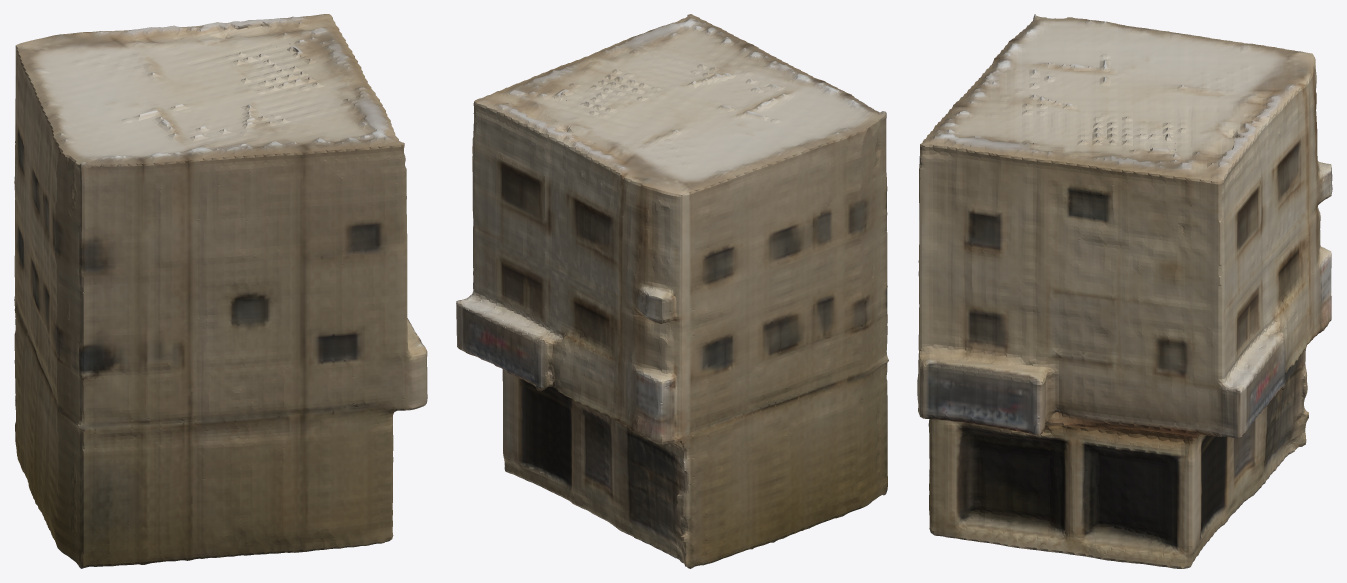
Rendered from tmpe9dycn5a.glb.
3 views of the same model, side by side, from view 1: azimuth 30°, elevation 25°; view 2: azimuth 150°, elevation 25°; view 3: azimuth 270°, elevation 25° (orthographic). The views are drawn at different scales.
Visible parts, largest first — view 1: world; view 2: world; view 3: world.
Boxes of the visible parts, <box> form: world: <box>14,14,427,568</box>; world: <box>456,14,888,568</box>; world: <box>917,14,1332,568</box>.
Size of the model in its own units: 1.79 by 1.96 by 1.84.
